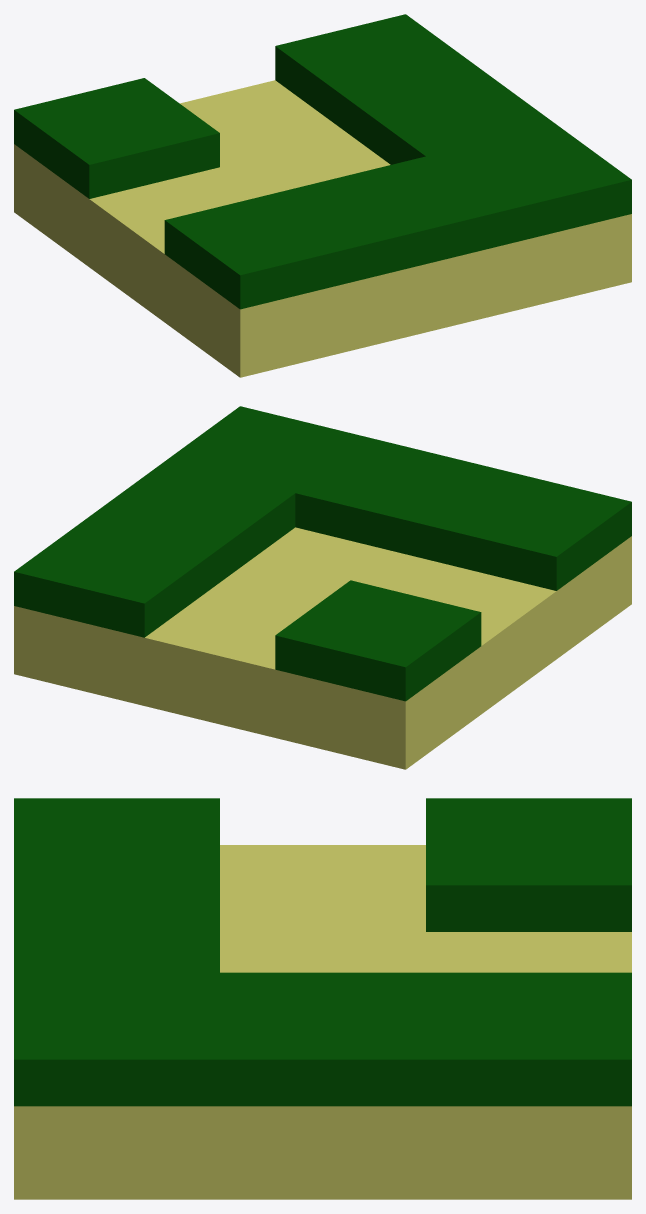
The model's file is Right.fbx.
The picture shows the model from 3 angles, top to bottom: view 1: azimuth 30°, elevation 25°; view 2: azimuth 150°, elevation 25°; view 3: azimuth 270°, elevation 25°; orthographic projection. The views are drawn at different scales.
Visible parts, largest first — view 1: Cube; view 2: Cube; view 3: Cube.
Part boxes in pixels (x1,y1,x2,y2): Cube: (14,14,631,377); Cube: (14,406,631,769); Cube: (14,798,631,1199).
Size of the model in its own units: 1200 by 300 by 1200.
